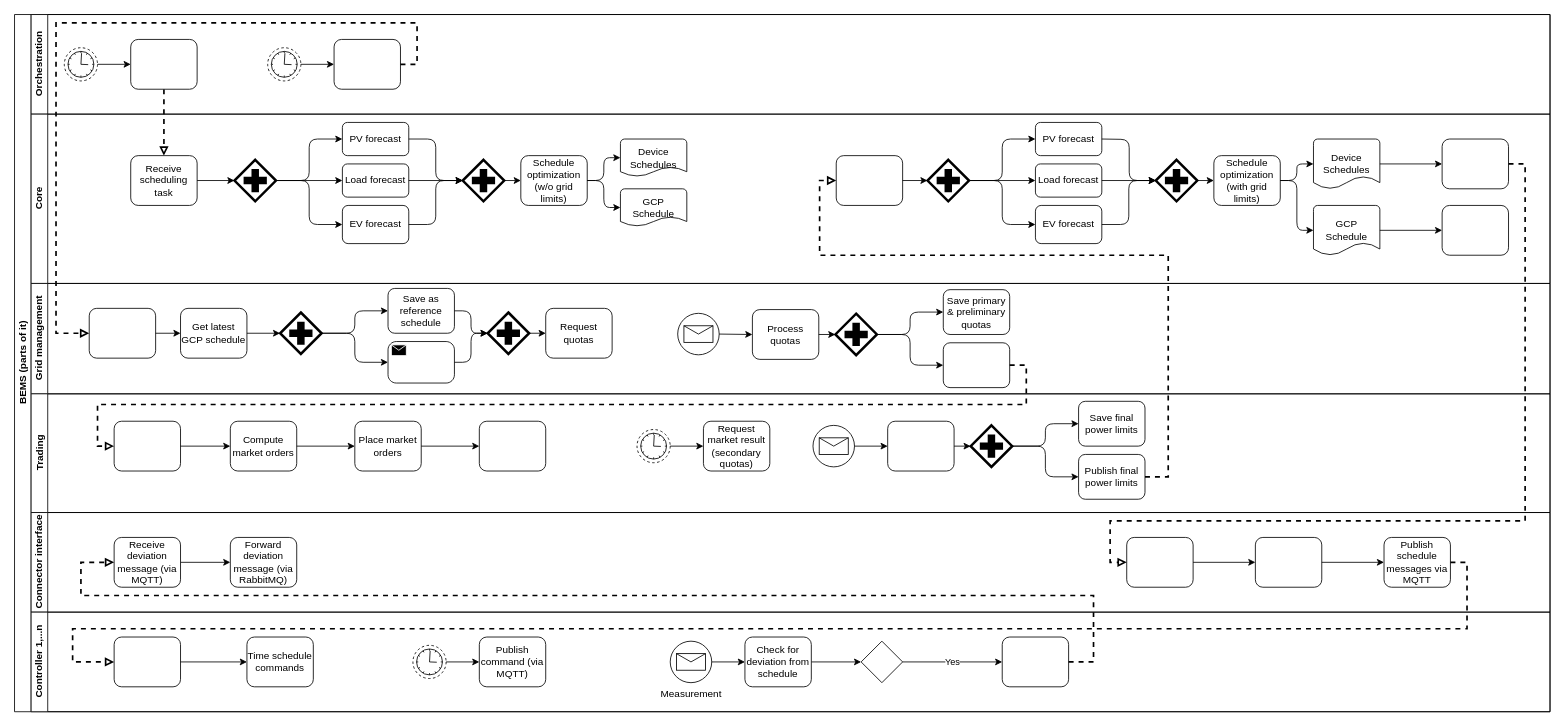
Some shapes in this 1565 by 726 pixel diagram are drawn without their labels. The shapes that lost their labels are listed below. From the top down, each one's centre as x and y in pixels, then its label:
point (163, 64): Send scheduling task
point (366, 64): Send task for schedule sending & quota request
point (869, 180): Receive final power limits
point (1475, 163): Publish device schedules
point (1475, 230): Save CP schedule
point (122, 333): Receive task for schedule sending & quota request
point (698, 333): Quotas
point (420, 362): Send GCP schedule to DSO
point (976, 365): Publish primary & preliminary quotas
point (147, 445): Receive primary quotas
point (512, 445): Schedule request for market result
point (833, 446): Market result
point (920, 445): Calculate final power limits
point (1159, 562): Receive schedules for each device
point (1288, 562): "Translate" schedule messages
point (147, 661): Receive schedule for device n (via MQTT)
point (881, 661): Tolerance violated?
point (1035, 661): Publish deviation message (via MQTT)
